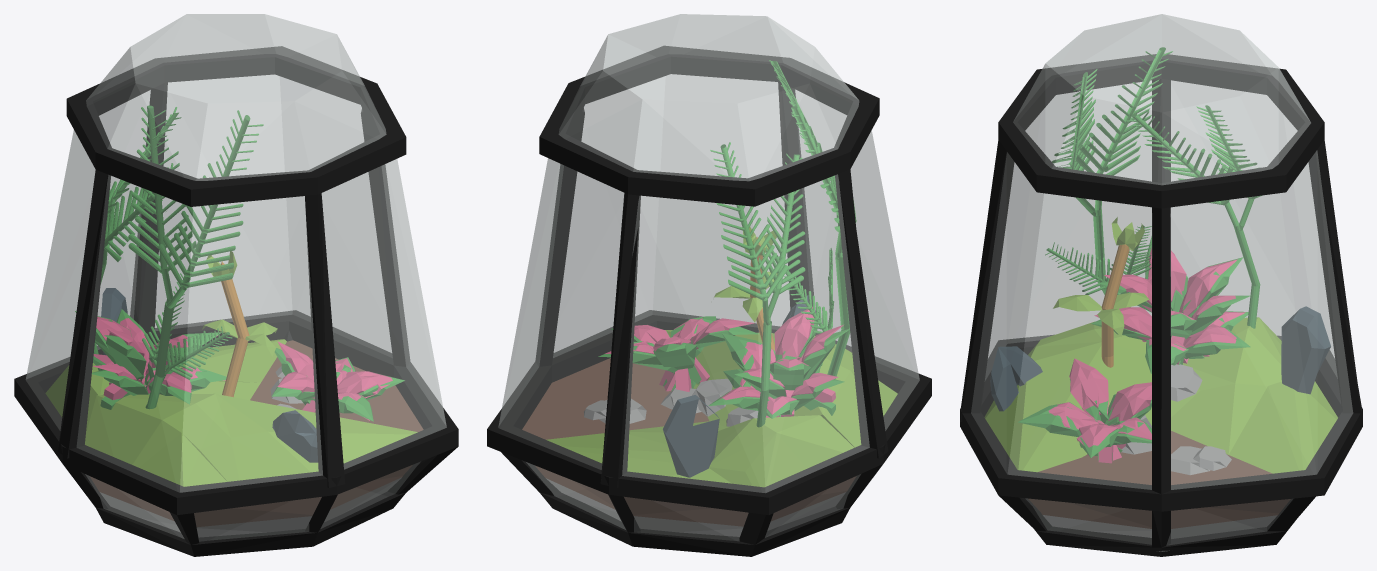
The model's file is Flowery Terrarium.glb.
3 views of the same model, side by side, from view 1: azimuth 30°, elevation 25°; view 2: azimuth 150°, elevation 25°; view 3: azimuth 270°, elevation 25° (orthographic).
Visible parts, largest first — view 1: group1244953278, group2088707937, group2007399090, group1739283736, group122068480, group20478783, group549744609, group54237549, group157461178, group1123662078, group872641618, group52985712 (+30 smaller); view 2: group1244953278, group157461178, group1739283736, group515876189, group20478783, group2088707937, group1581717191, group54237549, group156825849, group1940840320, group372063805, group1492663 (+36 smaller); view 3: group1244953278, group157461178, group2088707937, group1739283736, group2007399090, group54237549, group122068480, group515876189, group804455161, group1719875836, group324418234, group441994124 (+41 smaller).
Part boxes in pixels (x1=…): group1244953278: x1=25, y1=14, x2=446, y2=541; group2088707937: x1=85, y1=393, x2=417, y2=486; group2007399090: x1=128, y1=105, x2=263, y2=408; group1739283736: x1=89, y1=340, x2=423, y2=527; group122068480: x1=305, y1=193, x2=345, y2=487; group20478783: x1=57, y1=170, x2=110, y2=458; group549744609: x1=177, y1=471, x2=336, y2=515; group54237549: x1=361, y1=109, x2=409, y2=366; group157461178: x1=45, y1=339, x2=286, y2=432; group1123662078: x1=336, y1=426, x2=458, y2=494; group872641618: x1=191, y1=170, x2=317, y2=206; group52985712: x1=62, y1=445, x2=183, y2=514; group1244953278: x1=498, y1=14, x2=919, y2=540; group157461178: x1=546, y1=415, x2=854, y2=487; group1739283736: x1=522, y1=358, x2=856, y2=526; group515876189: x1=600, y1=193, x2=640, y2=487; group20478783: x1=835, y1=169, x2=888, y2=458; group2088707937: x1=665, y1=330, x2=897, y2=447; group1581717191: x1=609, y1=471, x2=768, y2=514; group54237549: x1=535, y1=108, x2=584, y2=366; group156825849: x1=487, y1=426, x2=608, y2=494; group1940840320: x1=628, y1=170, x2=754, y2=206; group372063805: x1=765, y1=445, x2=883, y2=514; group1492663: x1=663, y1=395, x2=719, y2=477; group1244953278: x1=971, y1=14, x2=1352, y2=551; group157461178: x1=1171, y1=317, x2=1337, y2=473; group2088707937: x1=984, y1=321, x2=1151, y2=471; group1739283736: x1=1028, y1=431, x2=1290, y2=528; group2007399090: x1=1052, y1=47, x2=1172, y2=294; group54237549: x1=1152, y1=207, x2=1170, y2=494; group122068480: x1=960, y1=140, x2=1014, y2=421; group515876189: x1=1308, y1=140, x2=1362, y2=421; group804455161: x1=1161, y1=470, x2=1324, y2=511; group1719875836: x1=998, y1=470, x2=1161, y2=511; group324418234: x1=1036, y1=167, x2=1161, y2=208; group441994124: x1=1161, y1=167, x2=1286, y2=208.
Bounding box in the file's own units: 0.6045 × 0.7166 × 0.6045.
